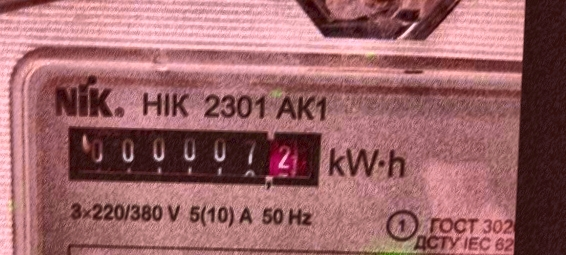0: (148, 134, 167, 162), (118, 135, 136, 164), (210, 134, 227, 163), (87, 136, 105, 163), (180, 134, 196, 162)
2: (275, 141, 292, 171)
7: (240, 137, 257, 166)
screen: (57, 112, 333, 197)
